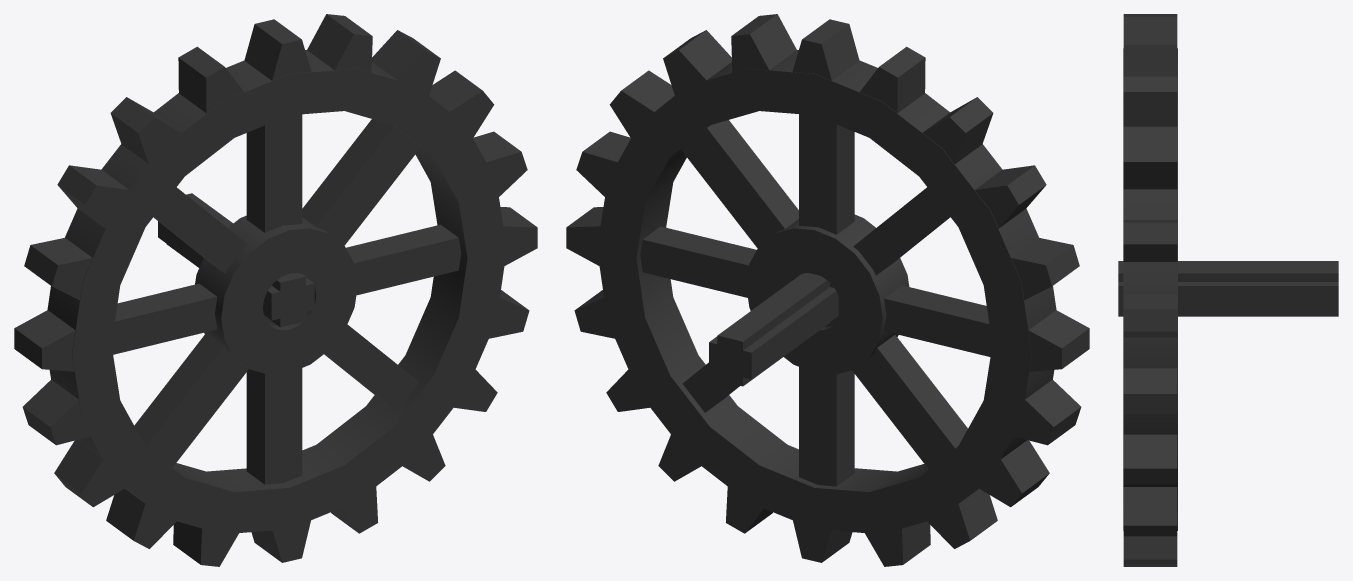
The model's file is gear4_geo.obj.
3 renders of one model, left to right at view 1: azimuth 30°, elevation 25°; view 2: azimuth 150°, elevation 25°; view 3: azimuth 270°, elevation 25°, orthographic. The views are drawn at different scales.
Parts seen in each view (by area): view 1: gear4_geo; view 2: gear4_geo; view 3: gear4_geo.
Boxes of the visible parts, x1,y1,x2,y2 form: gear4_geo: (14,14,537,566); gear4_geo: (566,14,1089,566); gear4_geo: (1118,14,1338,566).
Bounding box in the file's own units: 0.3385 × 0.3385 × 0.1347.
